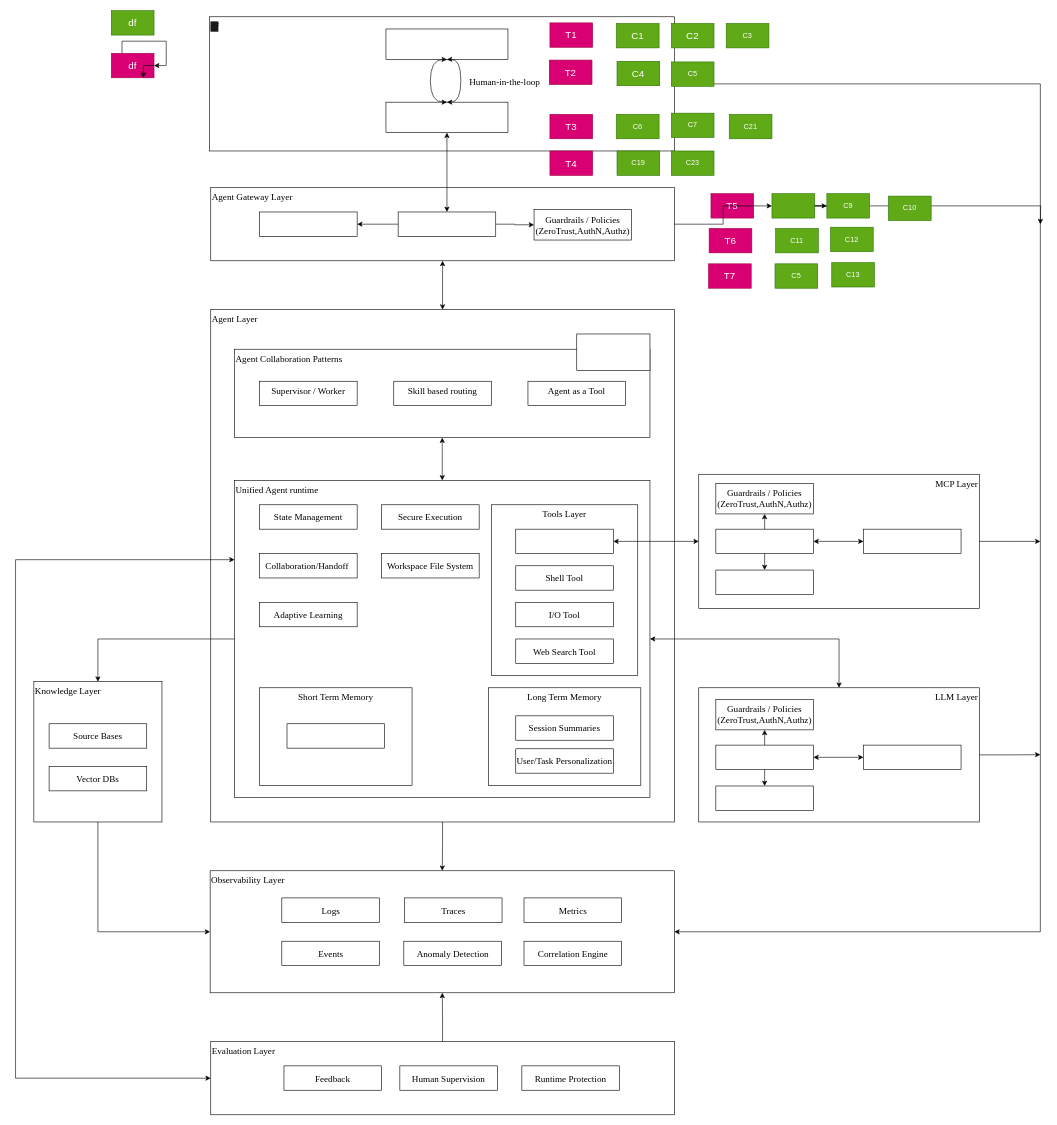
This 1057x1125 diagram has some shape labels left out. The centre of each missing label's shape, as x and y in pixels:
Agent Registry: [308,223]
Application: [446,117]
C8: [793,205]
Gateway: [447,223]
In-Session Context Manager: [335,735]
LLM Gateway: [764,757]
LLM ZOO: [912,757]
MCP Client: [564,541]
MCP Gateway: [764,541]
MCP Registry: [764,581]
MCP ZOO: [912,541]
Model Registry: [764,797]
User: [446,43]
